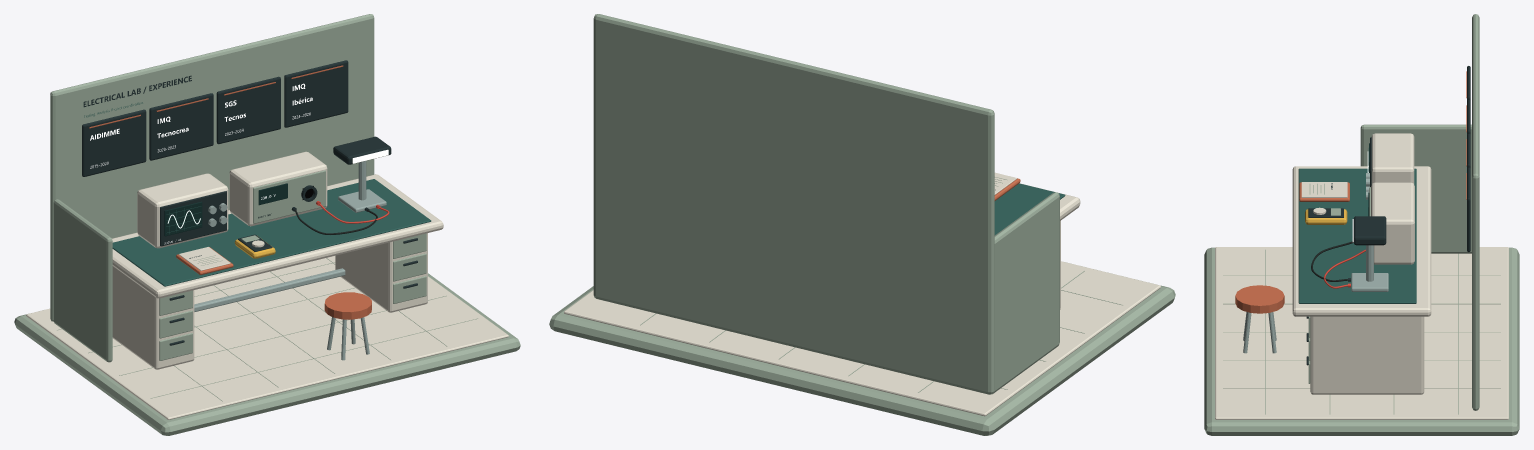
File: laboratory.glb
3 renders of one model, left to right at view 1: azimuth 30°, elevation 25°; view 2: azimuth 150°, elevation 25°; view 3: azimuth 270°, elevation 25°, orthographic. The views are drawn at different scales.
Parts seen in each view (by area): view 1: Laboratorio | pavimento.001, Panel trasero.001, Banco de ensayos | alfombrilla ESD.001, Laboratorio | isla.001, Panel lateral corto.001, Banco de ensayos | tablero.001, Banco | cajonera.002, Placa de experiencia | IMQ Tecnocrea.001, Placa de experiencia | IMQ Ibérica.001, Placa de experiencia | SGS Tecnos.001, Placa de experiencia | AIDIMME.001, Banco | cajonera.003 (+16 smaller); view 2: Panel trasero.001, Laboratorio | pavimento.001, Laboratorio | isla.001, Panel lateral corto.001, Banco de ensayos | alfombrilla ESD.001; view 3: Laboratorio | pavimento.001, Banco | cajonera.003, Laboratorio | isla.001, Banco de ensayos | alfombrilla ESD.001, Panel lateral corto.001, Banco de ensayos | tablero.001, Panel trasero.001, Equipo de ensayos | caja.001, Osciloscopio | carcasa.001, Taburete | asiento.001, Luminaria | cuerpo.001, Carpeta | informe.001 (+3 smaller).
Boxes of the visible parts, x1=… form: Laboratorio | pavimento.001: x1=26, y1=256, x2=508, y2=419; Panel trasero.001: x1=50, y1=14, x2=374, y2=321; Banco de ensayos | alfombrilla ESD.001: x1=112, y1=179, x2=431, y2=286; Laboratorio | isla.001: x1=14, y1=273, x2=520, y2=435; Panel lateral corto.001: x1=53, y1=199, x2=112, y2=362; Banco de ensayos | tablero.001: x1=112, y1=174, x2=443, y2=298; Banco | cajonera.002: x1=112, y1=266, x2=194, y2=369; Placa de experiencia | IMQ Tecnocrea.001: x1=149, y1=93, x2=213, y2=160; Placa de experiencia | IMQ Ibérica.001: x1=284, y1=60, x2=348, y2=127; Placa de experiencia | SGS Tecnos.001: x1=216, y1=76, x2=280, y2=144; Placa de experiencia | AIDIMME.001: x1=82, y1=109, x2=146, y2=176; Banco | cajonera.003: x1=335, y1=233, x2=427, y2=312; Panel trasero.001: x1=593, y1=14, x2=994, y2=394; Laboratorio | pavimento.001: x1=564, y1=261, x2=1160, y2=416; Laboratorio | isla.001: x1=549, y1=285, x2=1175, y2=435; Panel lateral corto.001: x1=993, y1=192, x2=1059, y2=393; Banco de ensayos | alfombrilla ESD.001: x1=994, y1=183, x2=1065, y2=235; Laboratorio | pavimento.001: x1=1215, y1=247, x2=1508, y2=419; Banco | cajonera.003: x1=1310, y1=316, x2=1424, y2=394; Laboratorio | isla.001: x1=1204, y1=247, x2=1519, y2=435; Banco de ensayos | alfombrilla ESD.001: x1=1298, y1=168, x2=1416, y2=303; Panel lateral corto.001: x1=1360, y1=124, x2=1471, y2=253; Banco de ensayos | tablero.001: x1=1292, y1=166, x2=1431, y2=316; Panel trasero.001: x1=1472, y1=14, x2=1479, y2=410; Equipo de ensayos | caja.001: x1=1371, y1=182, x2=1414, y2=264; Osciloscopio | carcasa.001: x1=1371, y1=133, x2=1414, y2=184; Taburete | asiento.001: x1=1235, y1=285, x2=1284, y2=313; Luminaria | cuerpo.001: x1=1353, y1=216, x2=1386, y2=245; Carpeta | informe.001: x1=1301, y1=182, x2=1347, y2=197.
Size of the model in its own units: 8 by 5.26 by 5.9.
